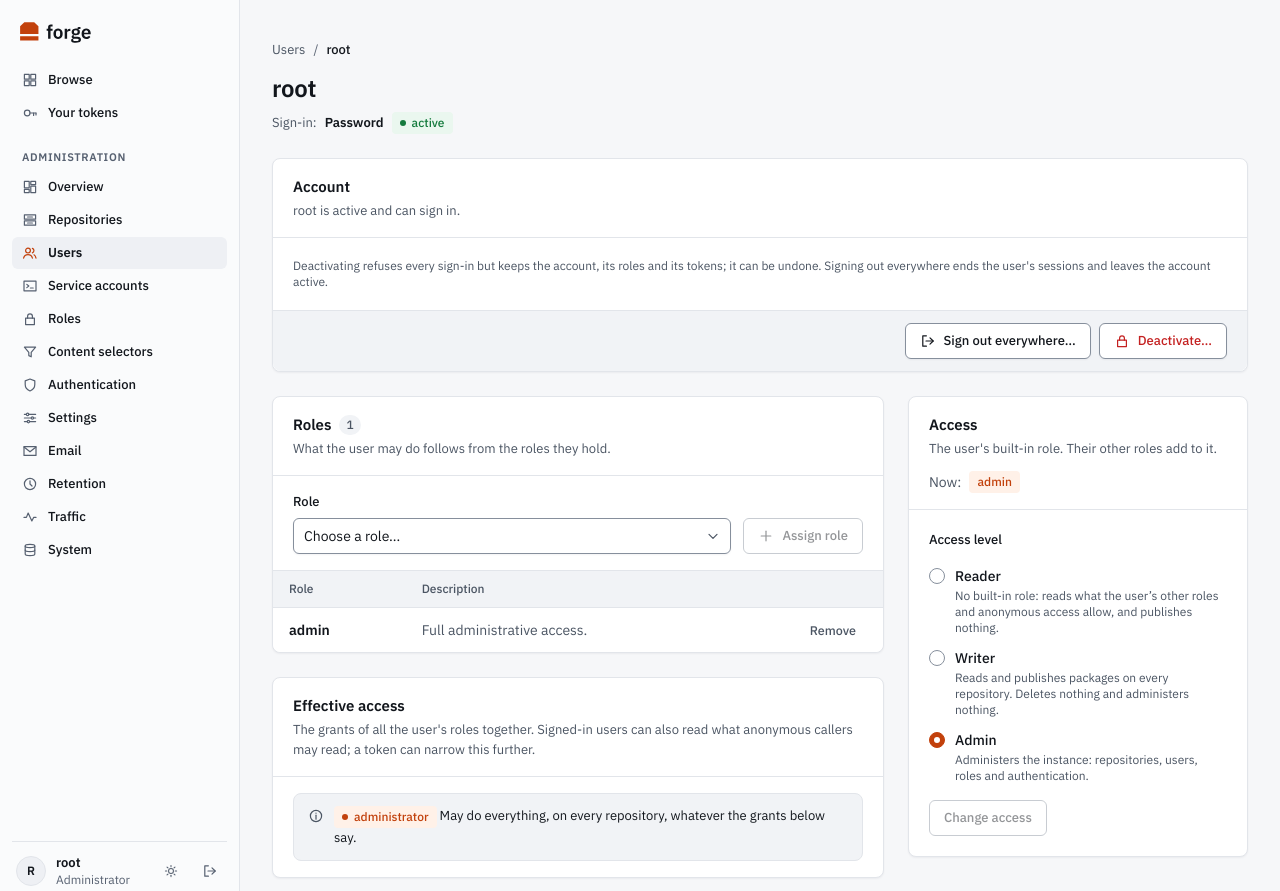
it: admin user roles › shows the refusal to take admin from the last administrator
What coordinates should you click on to do the following:
click the button with aria-label "Remove role admin"
I would click on:
 (833, 630)
Its box is [799,616,867,644].
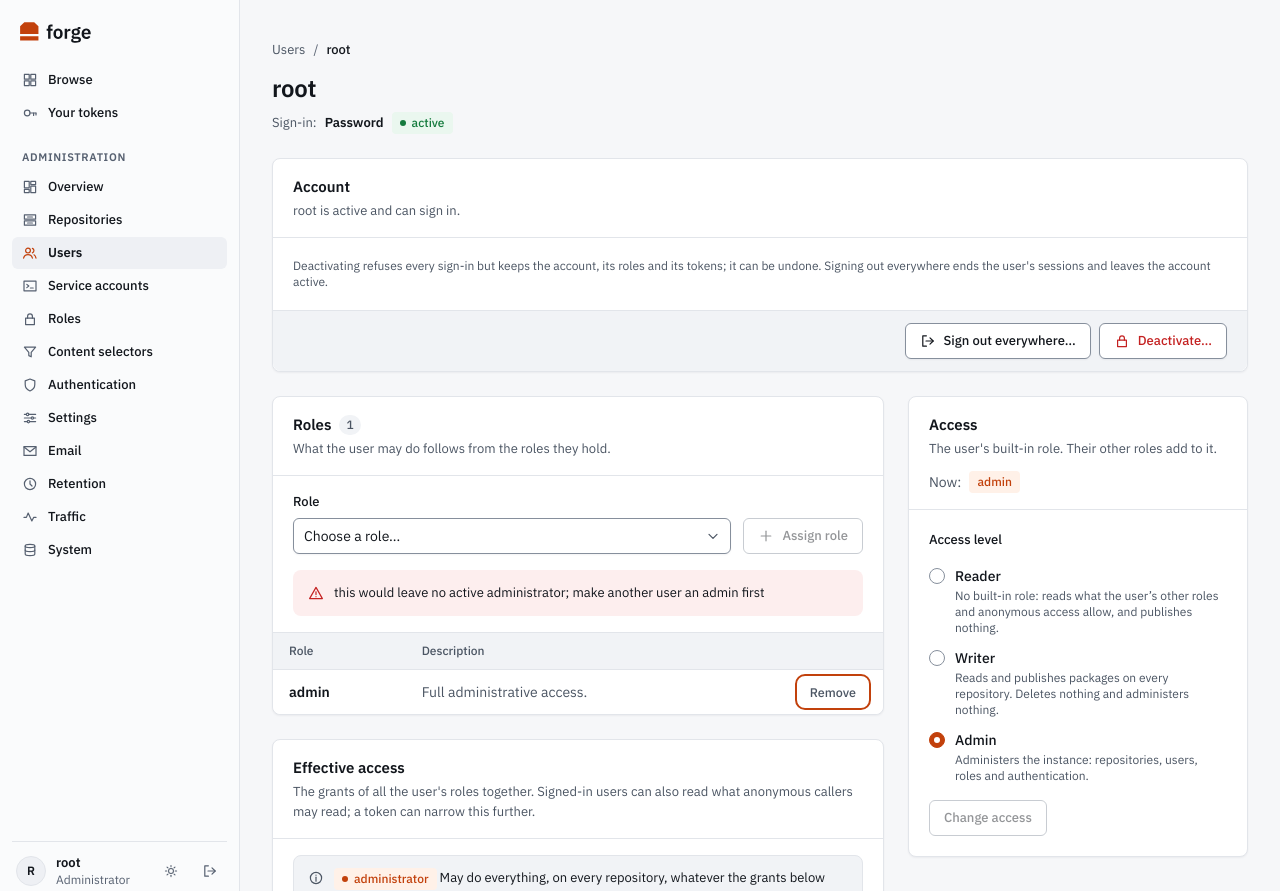
Expected: the button with aria-label "Remove role admin" is shown, [799,678,867,706]
Expected: the message "this would leave no active administrator; make another user an admin first" is shown, [293,570,863,616]
